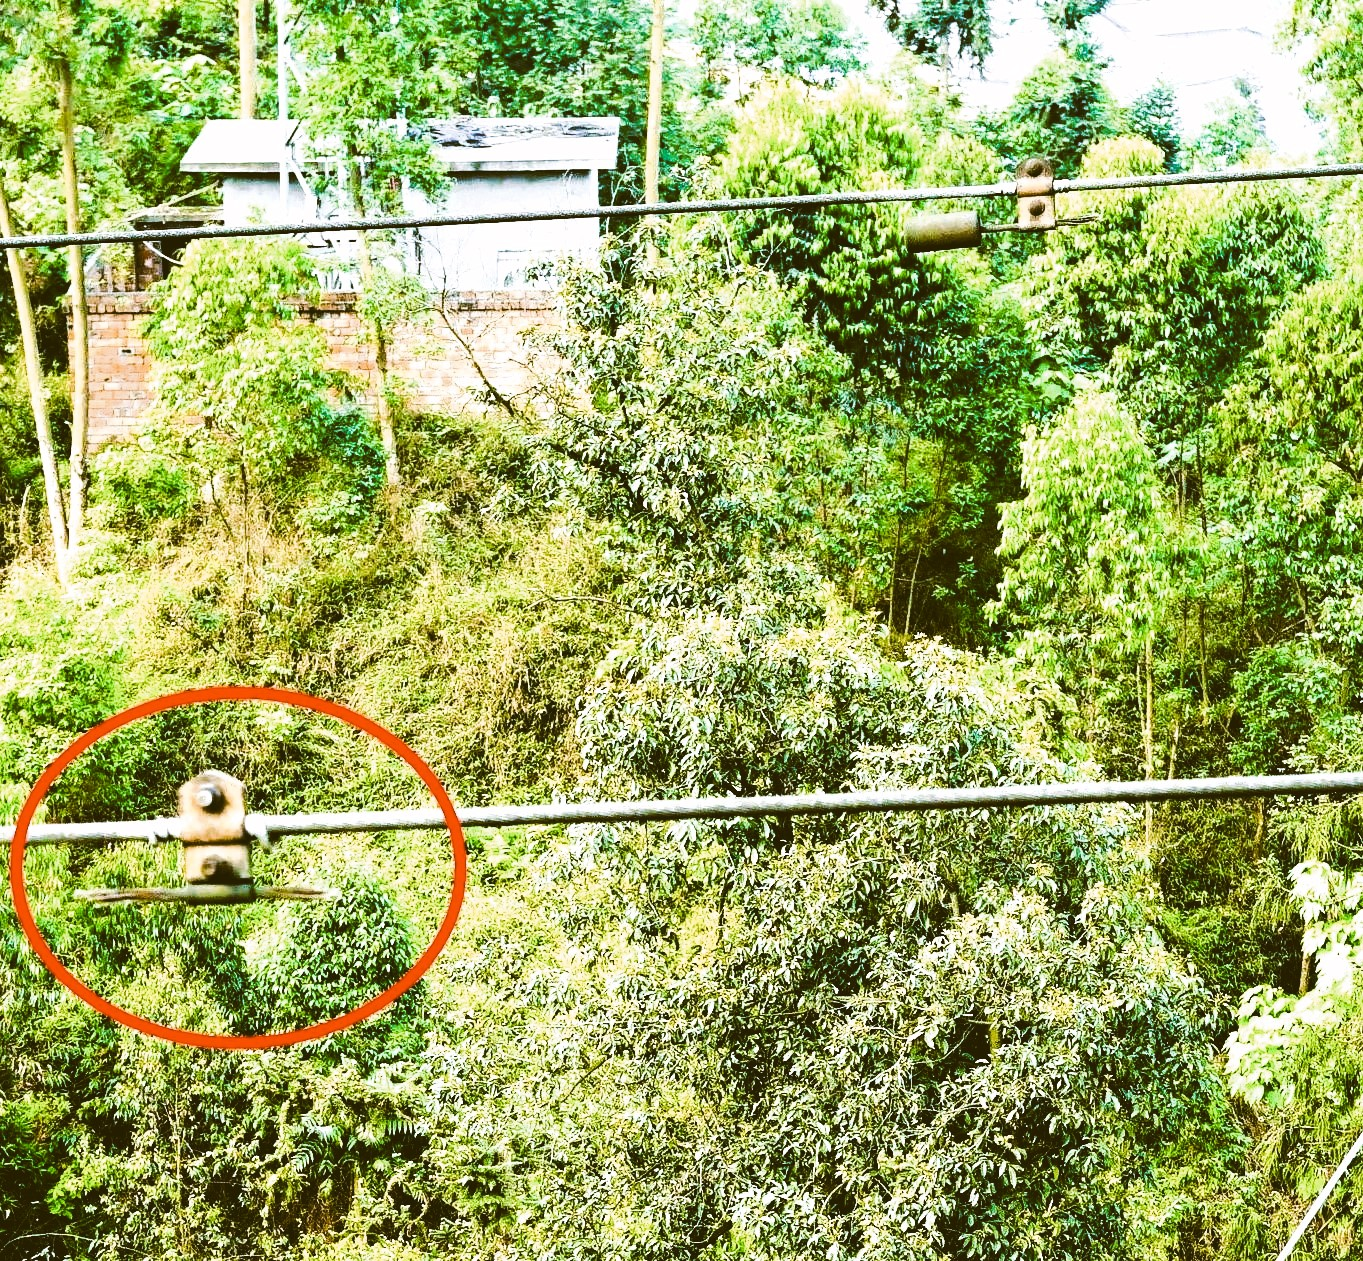Damage of shockproof hammer: (63, 750, 351, 927), (887, 154, 1118, 268)
